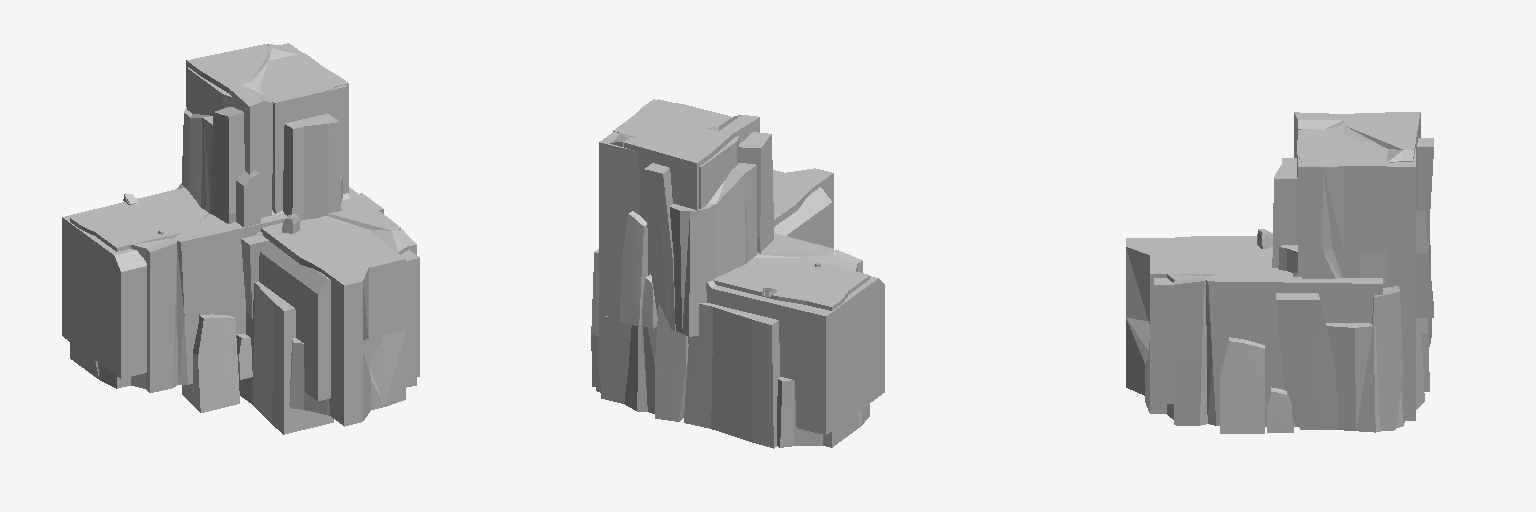
The model's file is cliff_1110_0100.obj.
3 renders of one model, left to right at view 1: azimuth 30°, elevation 25°; view 2: azimuth 150°, elevation 25°; view 3: azimuth 270°, elevation 25°, orthographic.
Visible parts, largest first — view 1: tile_1110_0100; view 2: tile_1110_0100; view 3: tile_1110_0100.
Boxes of the visible parts, x1=… form: tile_1110_0100: x1=62, y1=43, x2=419, y2=434; tile_1110_0100: x1=591, y1=99, x2=884, y2=448; tile_1110_0100: x1=1126, y1=112, x2=1433, y2=433.
Size of the model in its own units: 2.22 by 2.42 by 2.35.